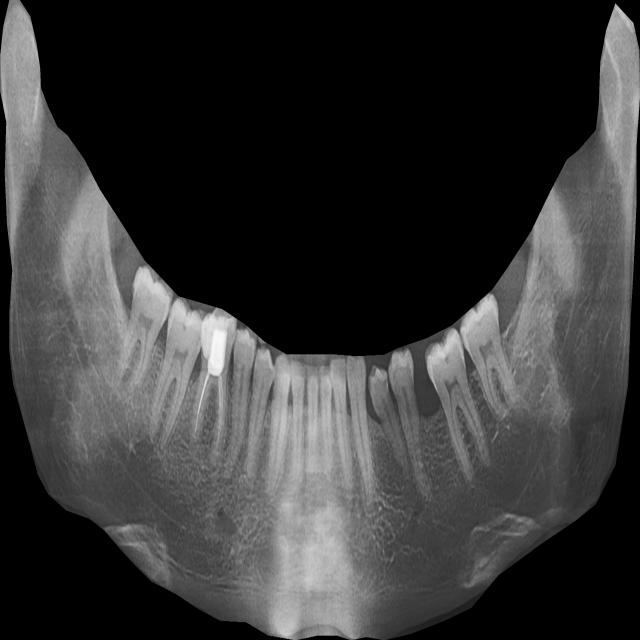mandibula: (0, 0, 640, 640)
